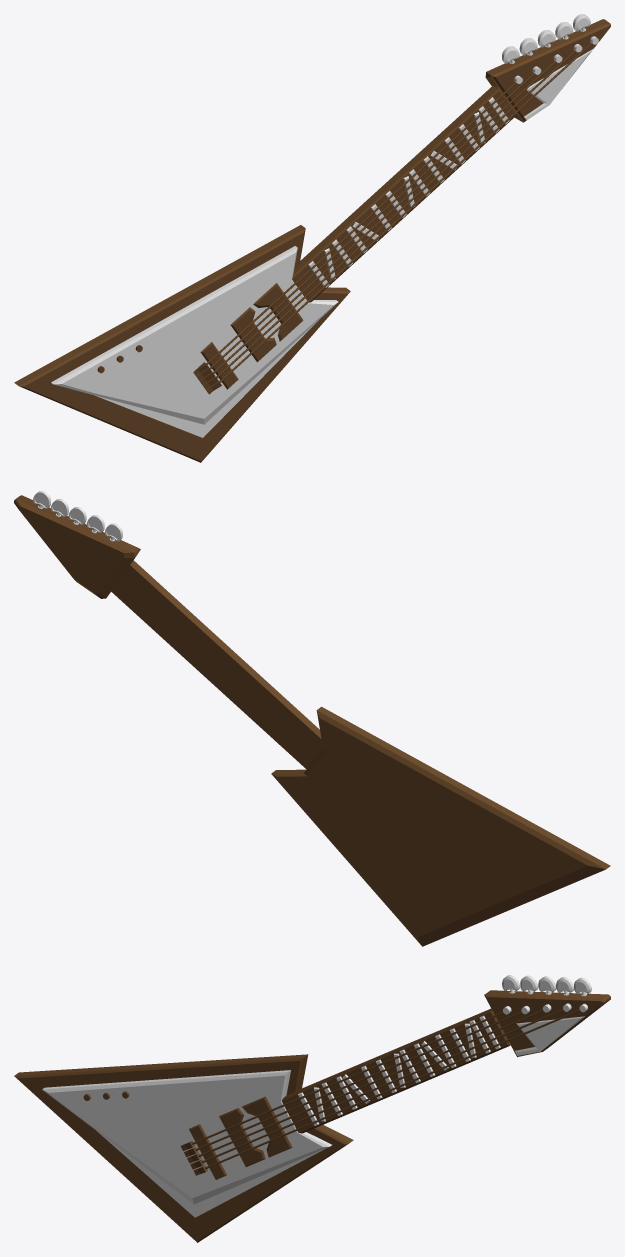
The model's file is Bonnie Guitar Blacklight.fbx.
3 renders of one model, top to bottom at view 1: azimuth 30°, elevation 25°; view 2: azimuth 150°, elevation 25°; view 3: azimuth 330°, elevation 25°, orthographic.
Parts seen in each view (by area): view 1: Blacklight Guitar; view 2: Blacklight Guitar; view 3: Blacklight Guitar.
Boxes of the visible parts, x1,y1,x2,y2 form: Blacklight Guitar: [14, 14, 610, 462]; Blacklight Guitar: [14, 491, 610, 946]; Blacklight Guitar: [14, 975, 610, 1242].
Size of the model in its own units: 114 by 65.61 by 4.28.
